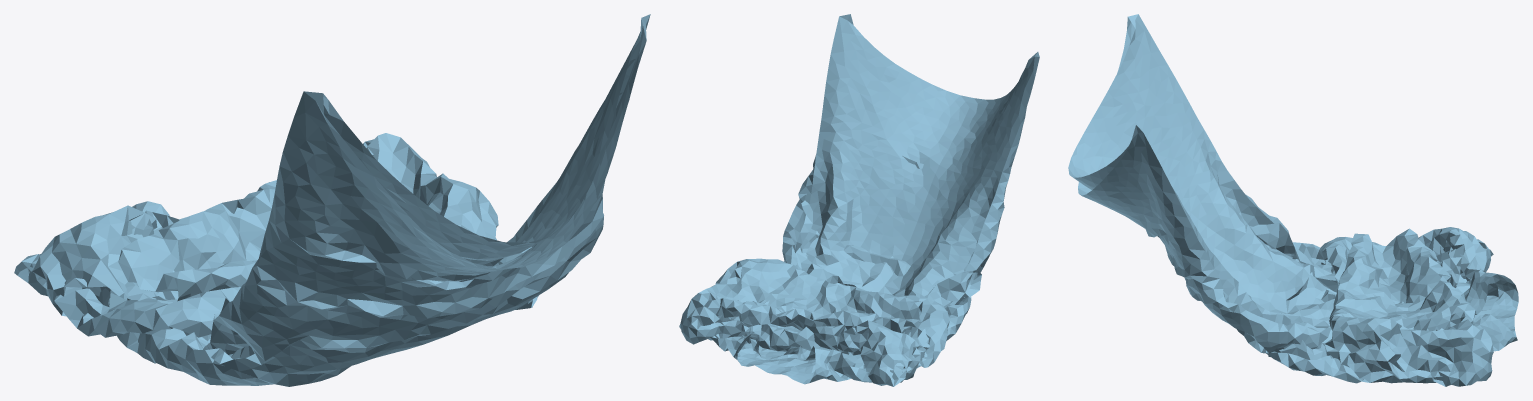
File: frame_06.glb
The picture shows the model from 3 angles, left to right: view 1: azimuth 30°, elevation 25°; view 2: azimuth 150°, elevation 25°; view 3: azimuth 270°, elevation 25°; orthographic projection. The views are drawn at different scales.
Parts seen in each view (by area): view 1: frame_06.obj; view 2: frame_06.obj; view 3: frame_06.obj.
Part boxes in pixels (x1=…): frame_06.obj: x1=14, y1=14, x2=650, y2=386; frame_06.obj: x1=679, y1=14, x2=1039, y2=386; frame_06.obj: x1=1068, y1=14, x2=1518, y2=386.
Bounding box in the file's own units: 0.9318 × 0.8851 × 1.38.
